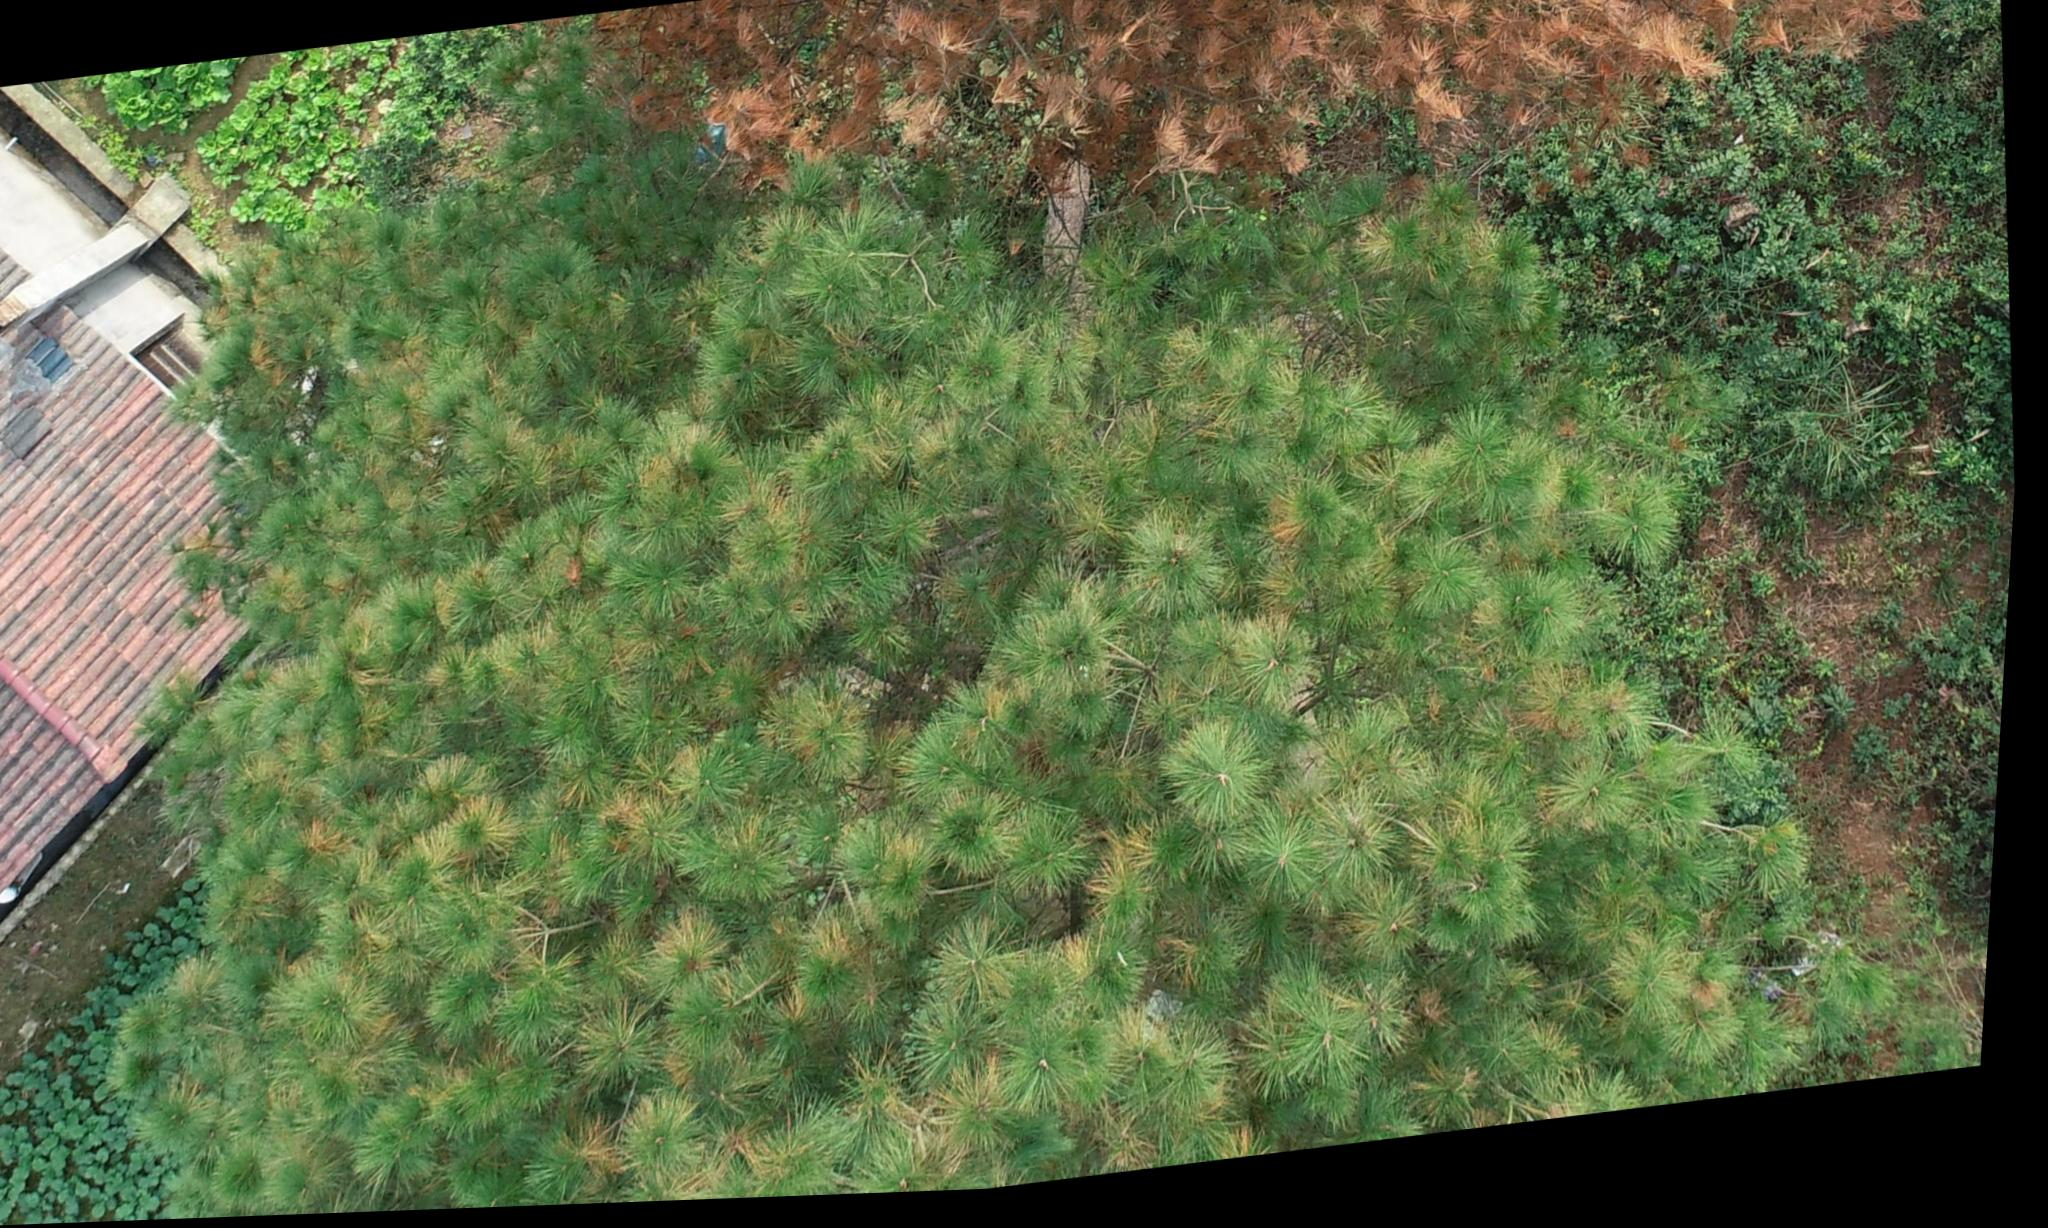heavy: (523, 0, 1954, 263)
light: (172, 127, 1937, 1221)
